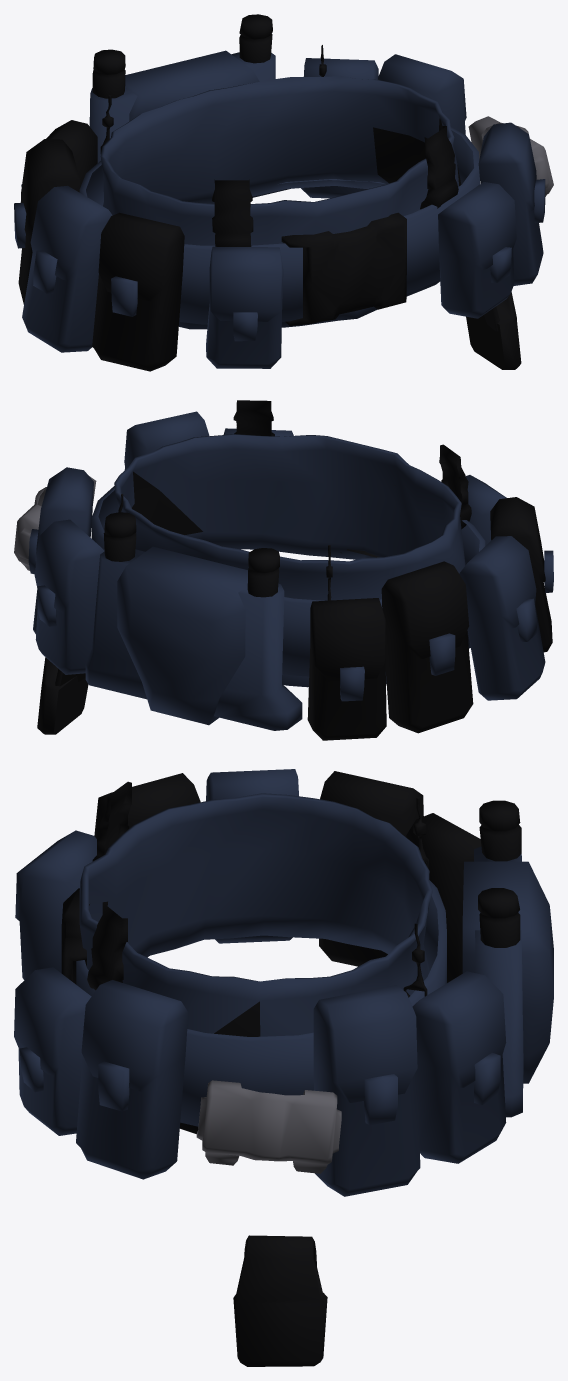
Rendered from prota.belt.v3.low.glb.
3 renders of one model, top to bottom at view 1: azimuth 30°, elevation 25°; view 2: azimuth 150°, elevation 25°; view 3: azimuth 270°, elevation 25°, orthographic. The views are drawn at different scales.
Visible parts, largest first — view 1: Prota_Belt; view 2: Prota_Belt; view 3: Prota_Belt.
Boxes of the visible parts, x1,y1,x2,y2 form: Prota_Belt: (14, 14, 553, 371); Prota_Belt: (14, 400, 553, 740); Prota_Belt: (14, 769, 553, 1366).
Size of the model in its own units: 0.4184 by 0.248 by 0.3194.
